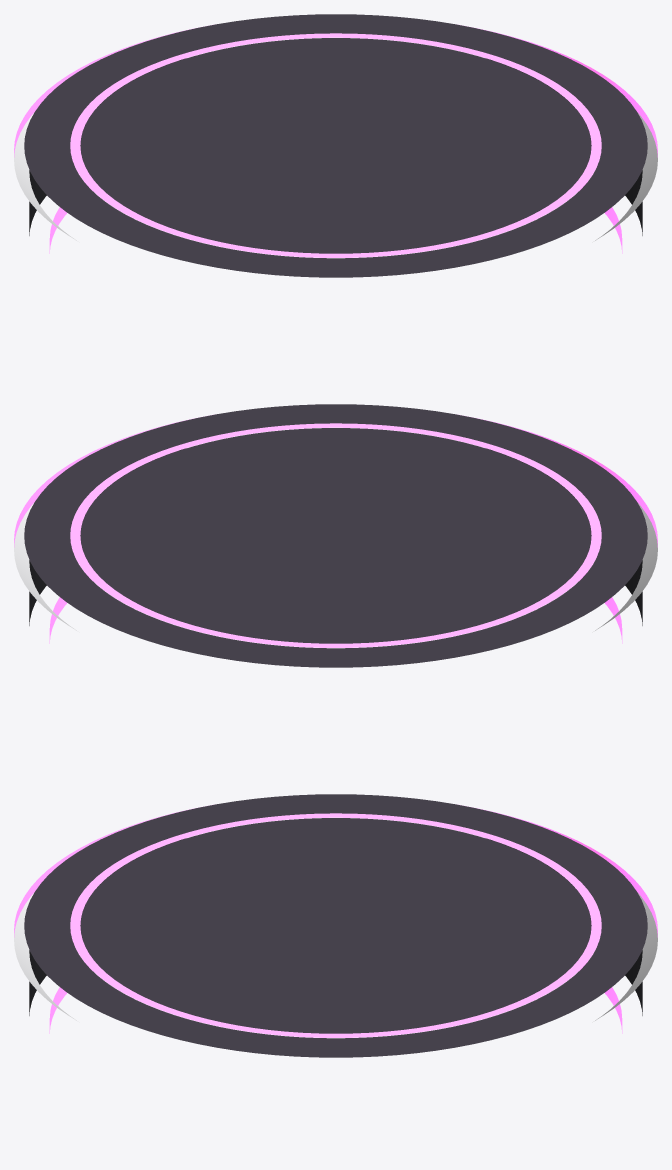
The model's file is podium_ruby.glb.
3 views of the same model, one above another, from view 1: azimuth 30°, elevation 25°; view 2: azimuth 150°, elevation 25°; view 3: azimuth 270°, elevation 25° (orthographic).
Visible parts, largest first — view 1: p8, p6, p7, p3, p4, p2; view 2: p8, p6, p7, p3, p4, p2; view 3: p8, p6, p7, p3, p4, p2.
Part boxes in pixels (x1,y1,x2,y2): p8: (80,38,591,253); p6: (24,14,647,277); p7: (70,33,601,257); p3: (14,37,657,240); p4: (14,24,657,157); p2: (29,58,642,235); p8: (80,428,591,643); p6: (24,404,647,667); p7: (70,423,601,647); p3: (14,427,657,630); p4: (14,414,657,547); p2: (29,448,642,625); p8: (80,818,591,1033); p6: (24,794,647,1057); p7: (70,813,601,1037); p3: (14,817,657,1020); p4: (14,804,657,937); p2: (29,838,642,1015).
Bounding box in the file's own units: 2.52 × 0.471 × 2.52.
